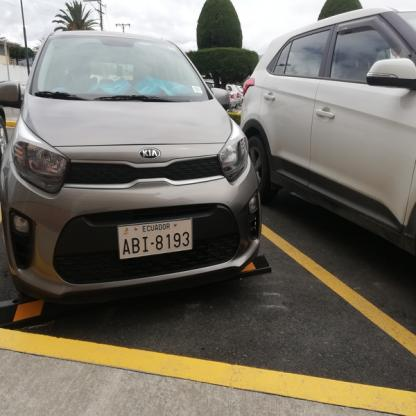Placa: (116, 217, 197, 258)
